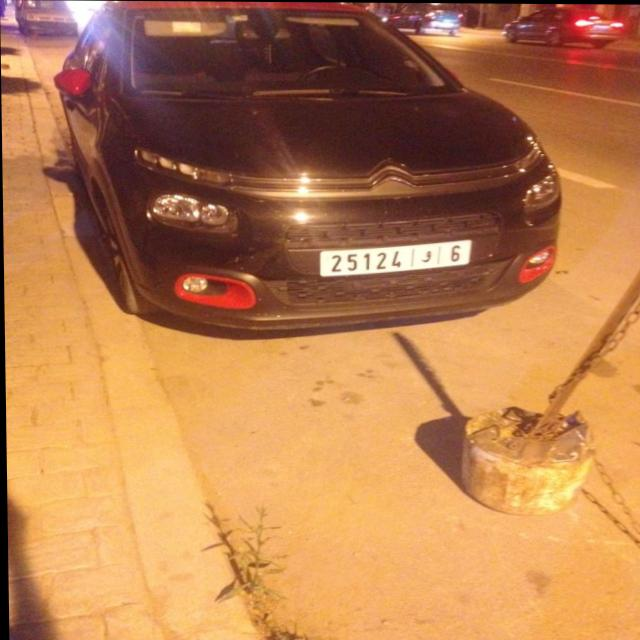License-Plate: (320, 239, 471, 275)
